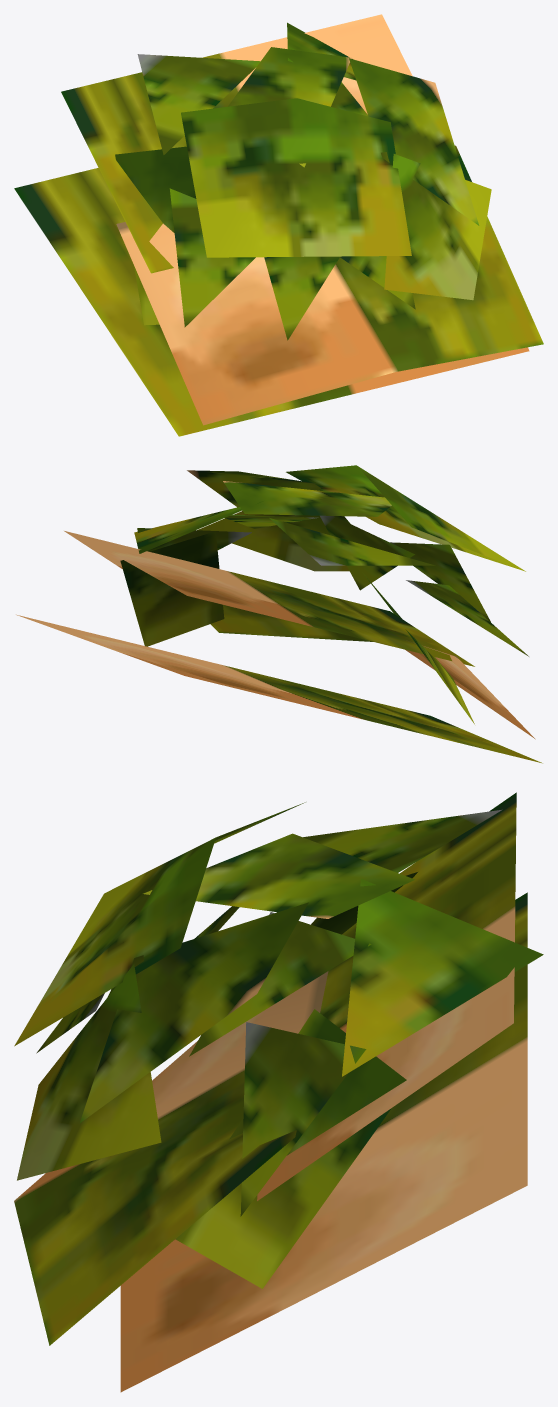
The model's file is fg_bushD_2_ye.dae.
3 renders of one model, top to bottom at view 1: azimuth 30°, elevation 25°; view 2: azimuth 150°, elevation 25°; view 3: azimuth 270°, elevation 25°, orthographic. The views are drawn at different scales.
Visible parts, largest first — view 1: fg_bushD_2_ye; view 2: fg_bushD_2_ye; view 3: fg_bushD_2_ye.
Part boxes in pixels (x1,y1,x2,y2): fg_bushD_2_ye: [14, 14, 543, 436]; fg_bushD_2_ye: [16, 465, 542, 763]; fg_bushD_2_ye: [14, 792, 543, 1392].
Bounding box in the file's own units: 47.83 × 31.26 × 36.53.
1 material, 1 textured.
